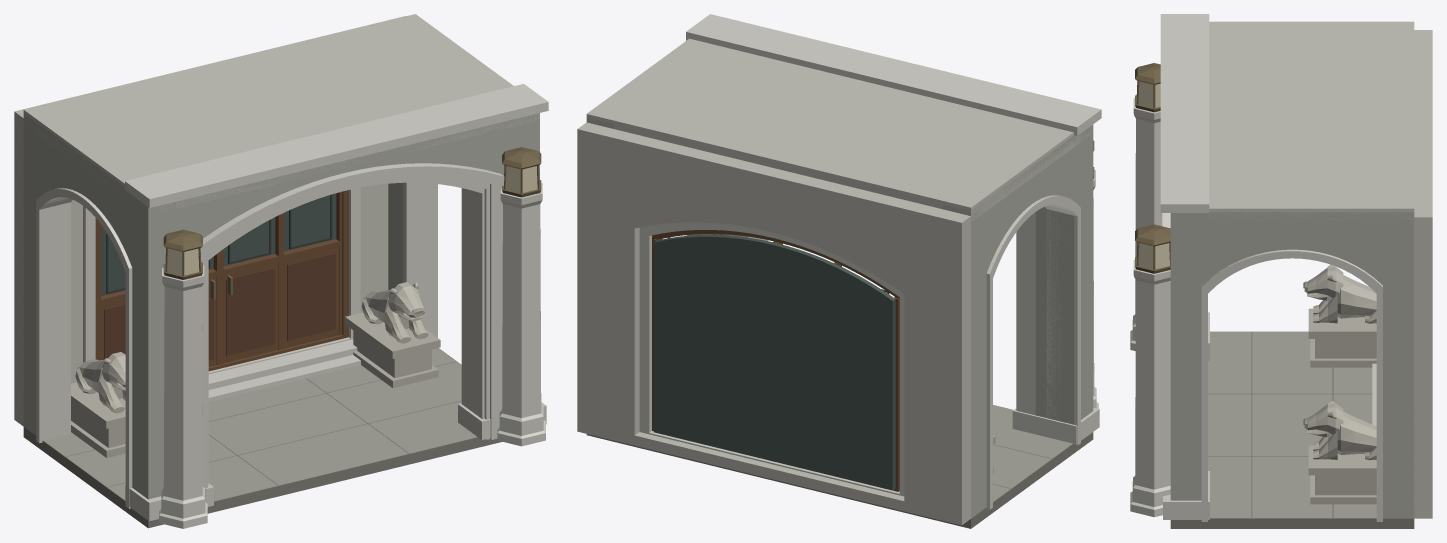
File: xuhui-wuyuan-314-welfare-house-lion-portico-lod.glb
3 renders of one model, left to right at view 1: azimuth 30°, elevation 25°; view 2: azimuth 150°, elevation 25°; view 3: azimuth 270°, elevation 25°, orthographic. The views are drawn at different scales.
Parts seen in each view (by area): view 1: 五原路314号花园住宅石狮券廊; view 2: 五原路314号花园住宅石狮券廊; view 3: 五原路314号花园住宅石狮券廊.
Boxes of the visible parts, x1=… form: 五原路314号花园住宅石狮券廊: x1=14, y1=14, x2=548, y2=528; 五原路314号花园住宅石狮券廊: x1=577, y1=14, x2=1101, y2=528; 五原路314号花园住宅石狮券廊: x1=1130, y1=14, x2=1432, y2=528.
Size of the model in its own units: 5.66 by 4.52 by 3.79.
